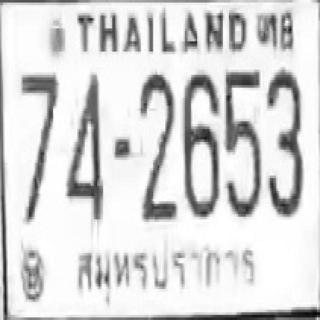N02: (139, 72, 175, 219)
N03: (264, 68, 302, 215)
N04: (64, 71, 102, 218)
N05: (224, 67, 261, 217)
N06: (182, 70, 218, 214)
N07: (19, 71, 57, 221), (19, 72, 57, 199)
P57: (72, 234, 258, 308)
